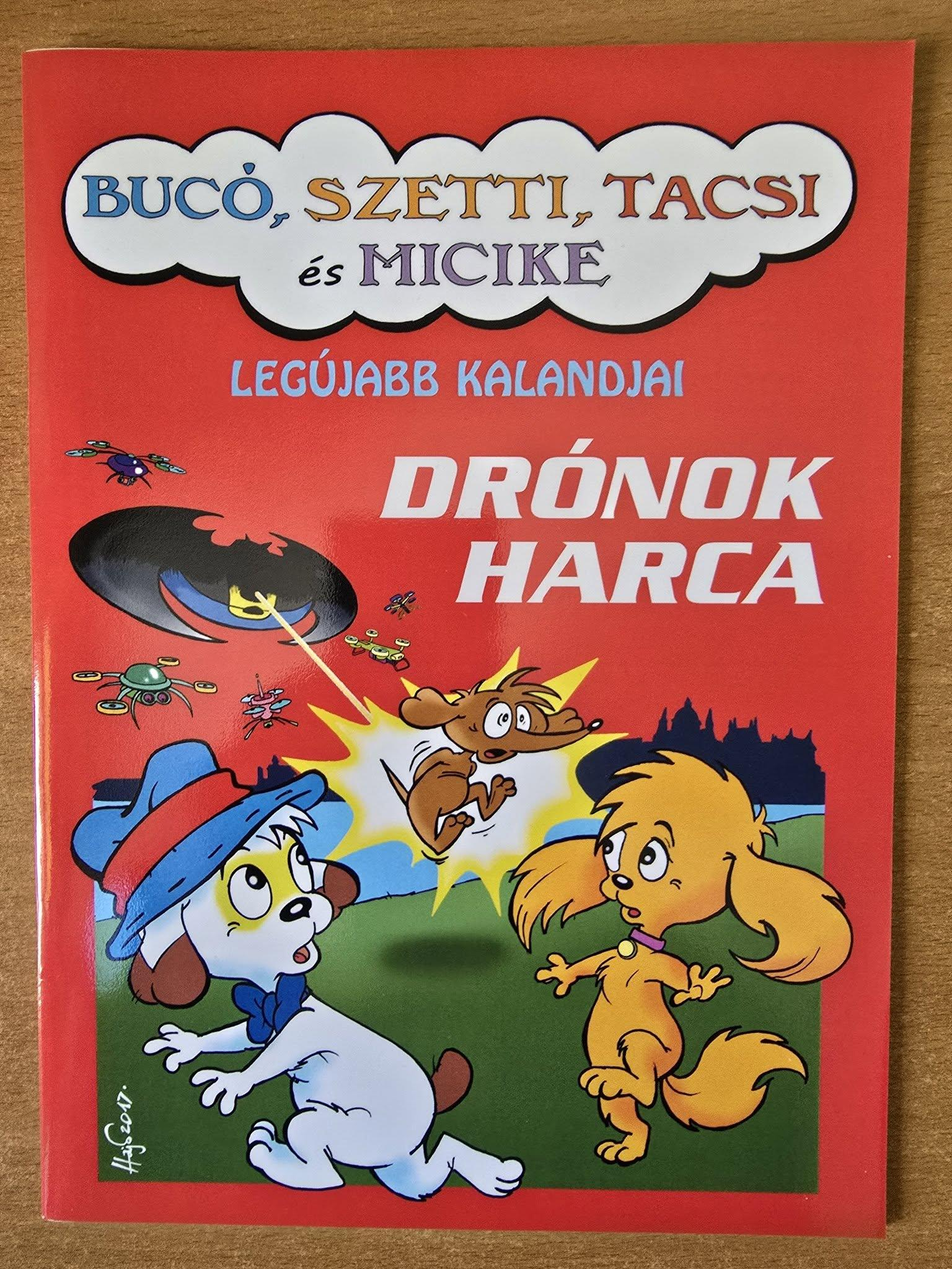comic: (3, 27, 912, 1235)
